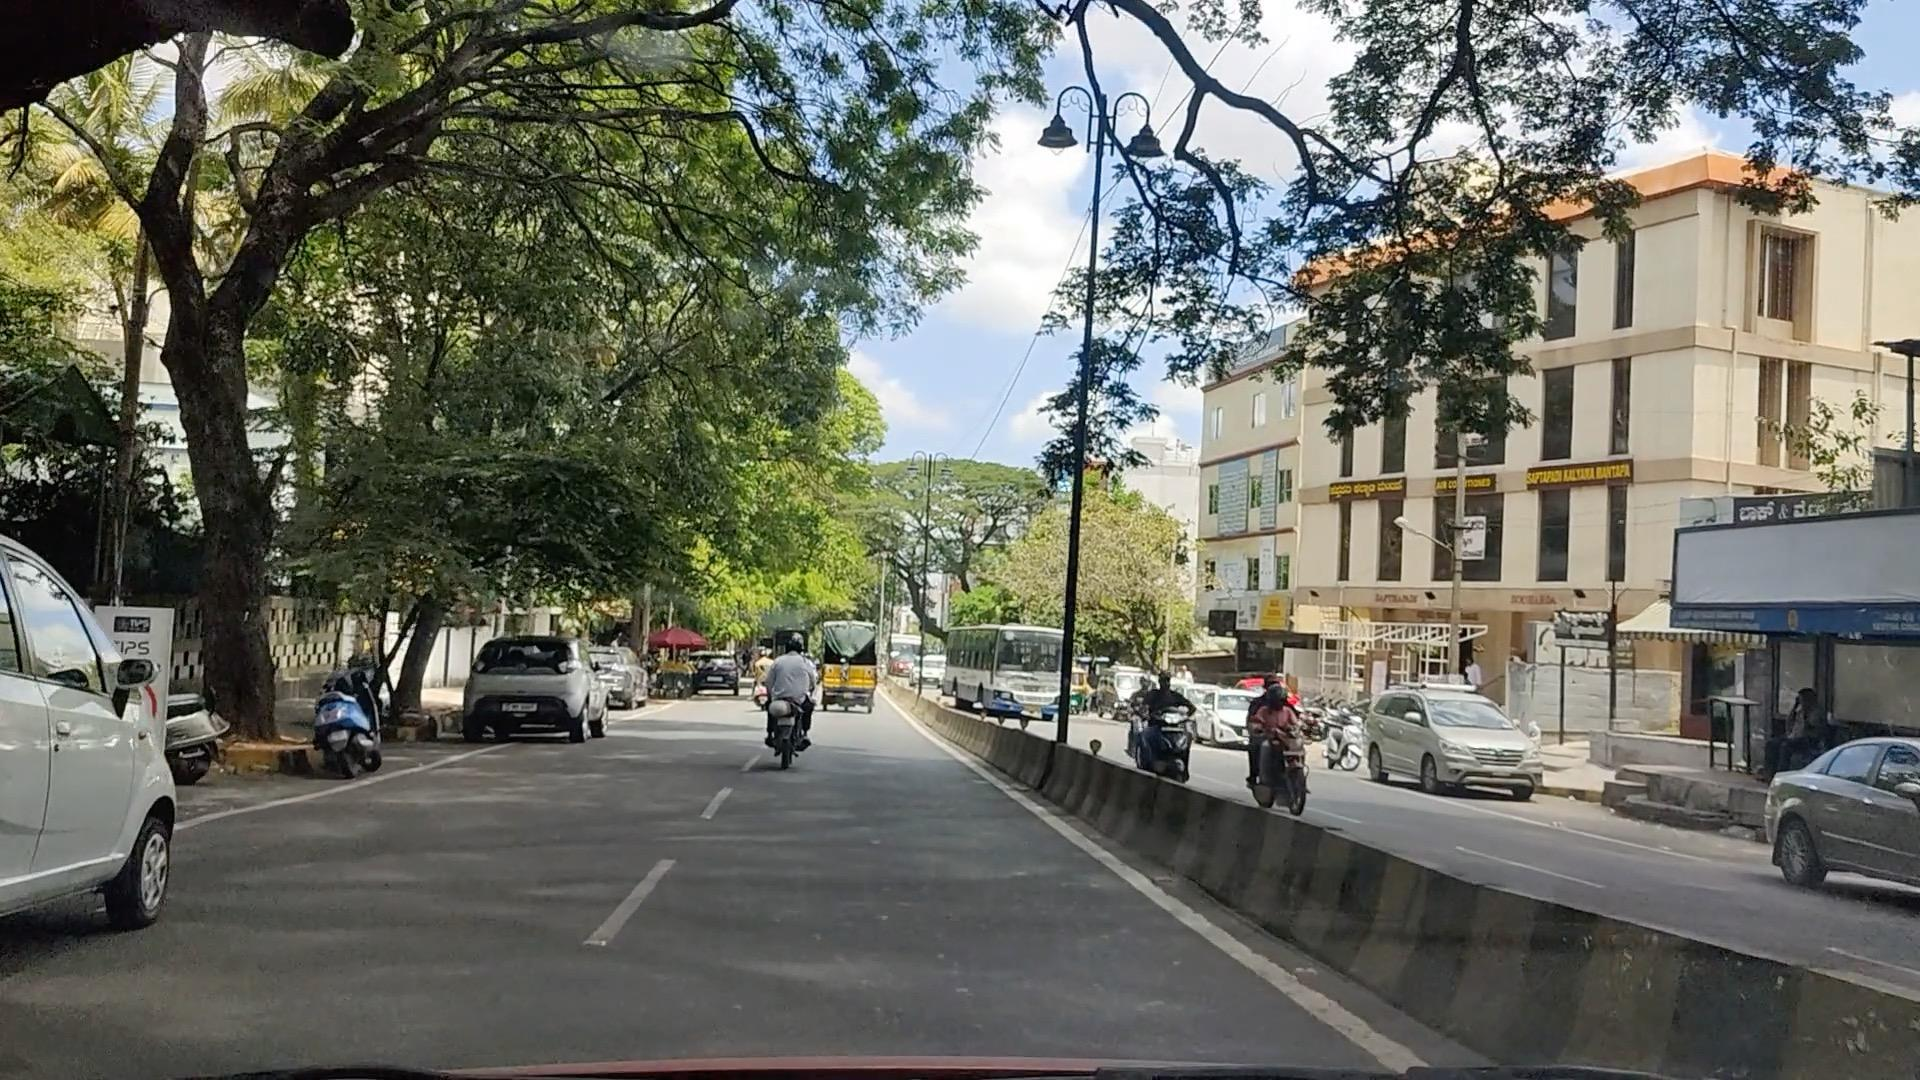LMV: (476, 657, 582, 740), (764, 637, 825, 767)
